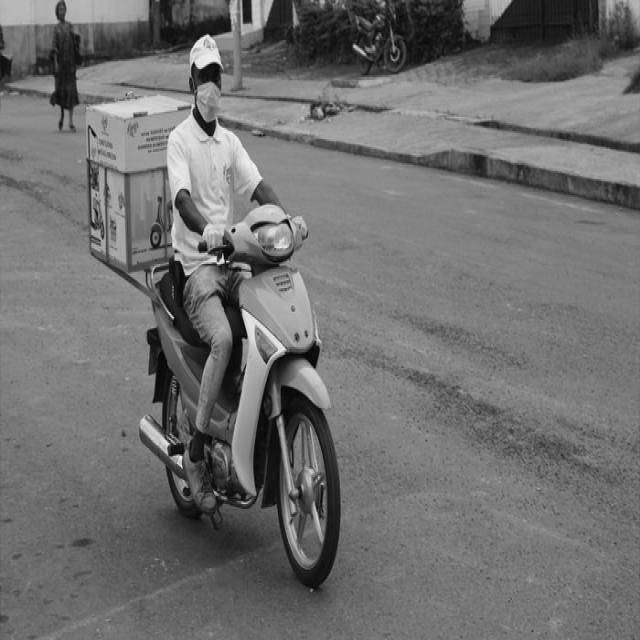Motorbike: (85, 36, 341, 593)
